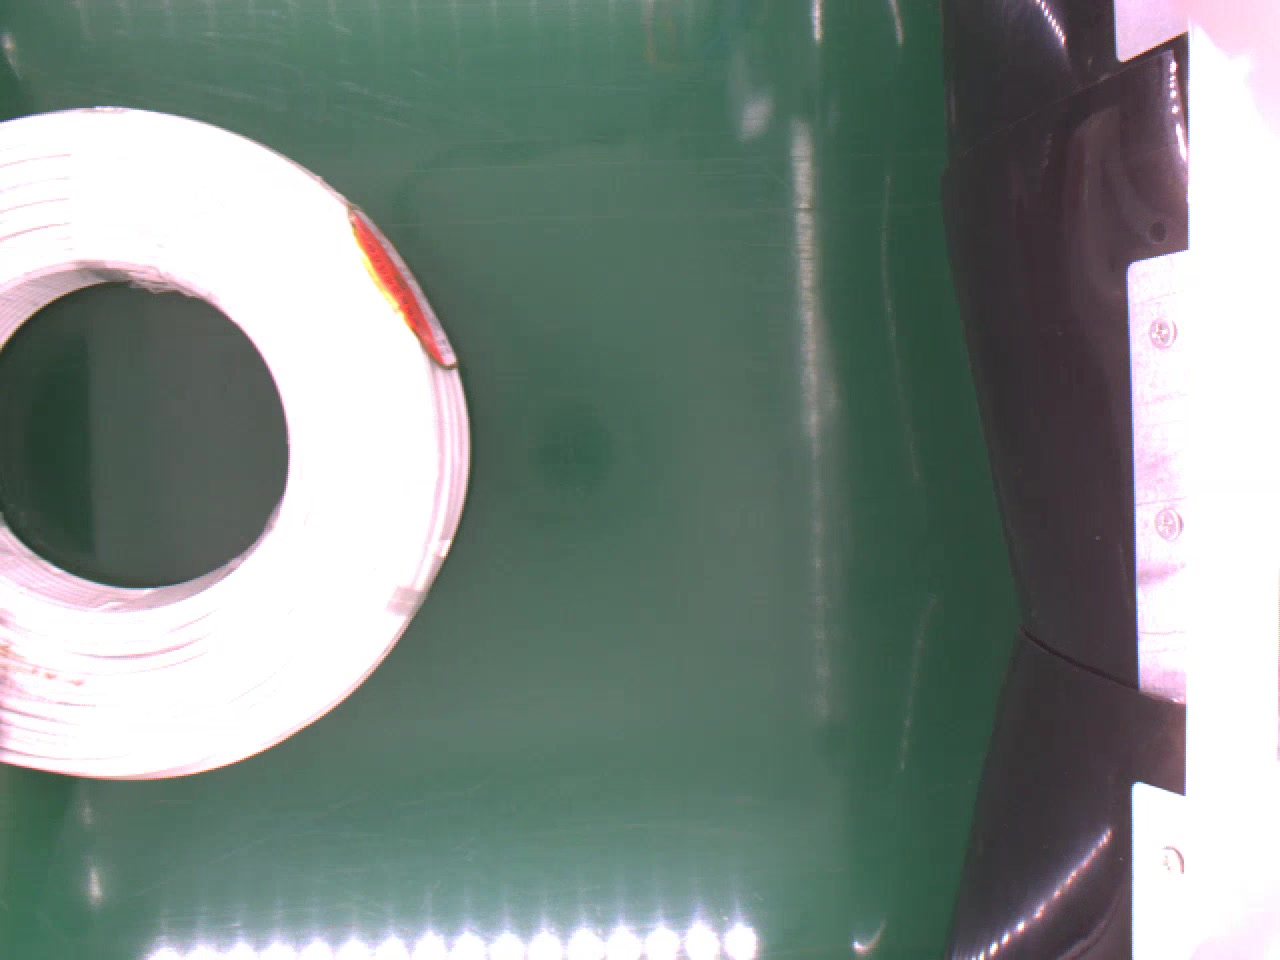white: (0, 101, 479, 785)
